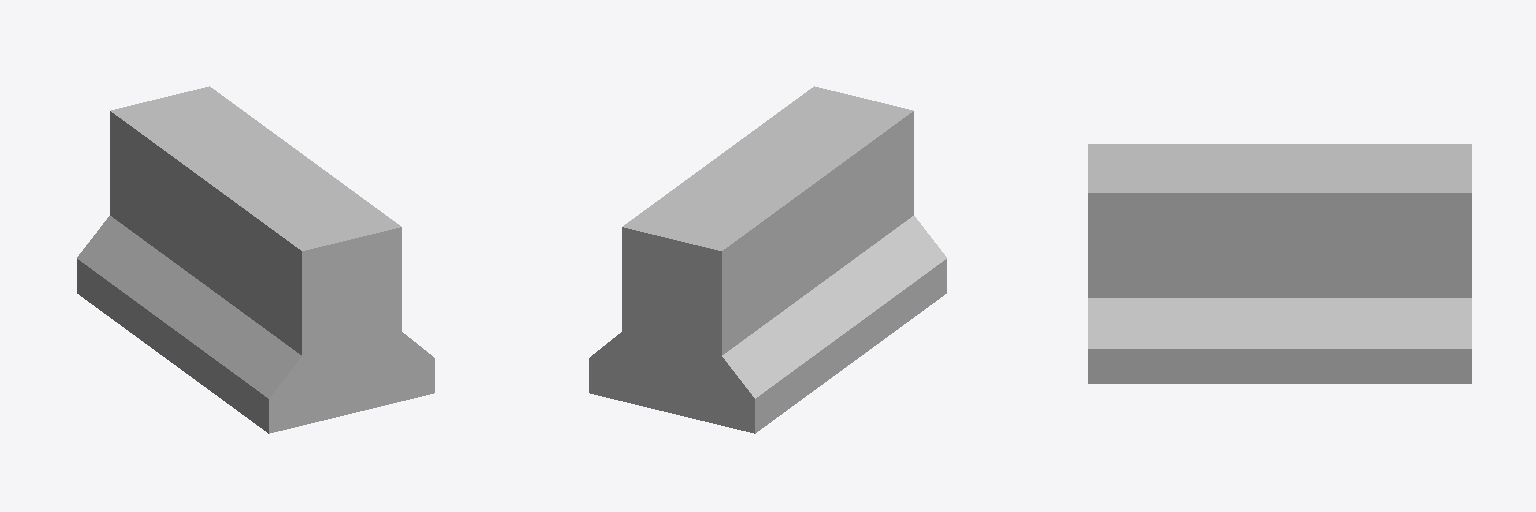
The model's file is RoadBlock.obj.
3 renders of one model, left to right at view 1: azimuth 30°, elevation 25°; view 2: azimuth 150°, elevation 25°; view 3: azimuth 270°, elevation 25°, orthographic.
Parts seen in each view (by area): view 1: pCube1; view 2: pCube1; view 3: pCube1.
Boxes of the visible parts, x1,y1,x2,y2 form: pCube1: [77, 86, 434, 433]; pCube1: [589, 86, 946, 433]; pCube1: [1088, 144, 1471, 383].
Size of the model in its own units: 1 by 1 by 2.